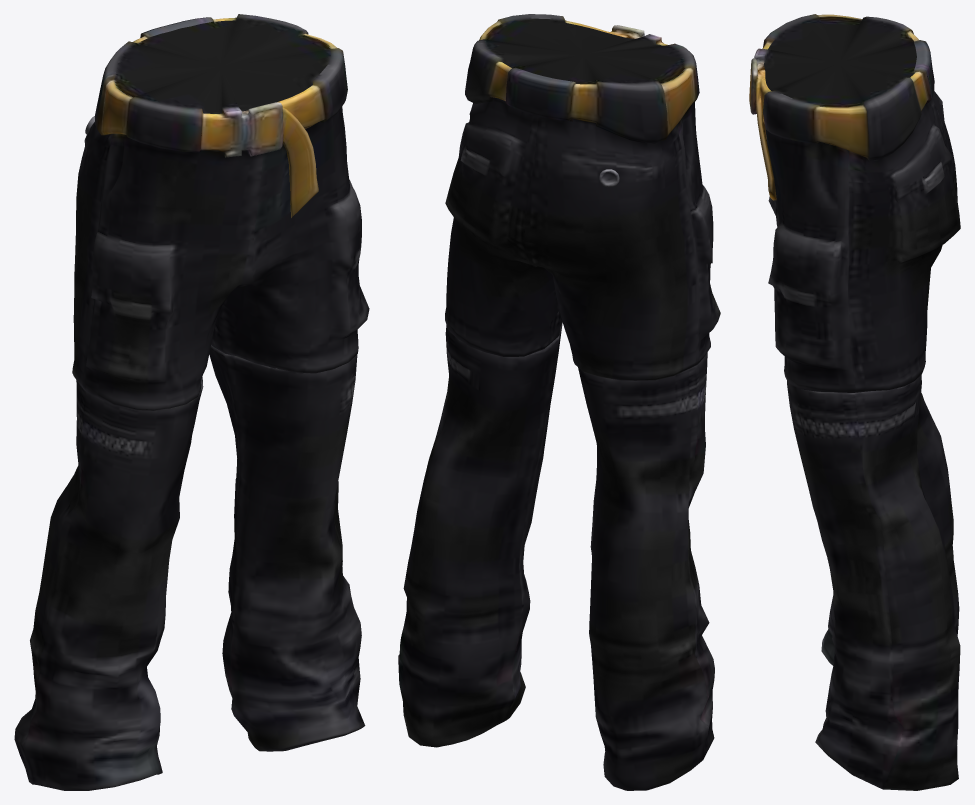
The model's file is leg2.glb.
The picture shows the model from 3 angles, left to right: view 1: azimuth 30°, elevation 25°; view 2: azimuth 150°, elevation 25°; view 3: azimuth 270°, elevation 25°; orthographic projection. The views are drawn at different scales.
Visible parts, largest first — view 1: Wolf3D_Outfit_Bottom; view 2: Wolf3D_Outfit_Bottom; view 3: Wolf3D_Outfit_Bottom.
Part boxes in pixels (box(x1,y1,x2,y2)): Wolf3D_Outfit_Bottom: box(14, 14, 369, 790); Wolf3D_Outfit_Bottom: box(398, 14, 720, 790); Wolf3D_Outfit_Bottom: box(749, 14, 960, 790).
Size of the model in its own units: 0.4752 by 0.9985 by 0.2826.
Materials: 1 (1 with a texture image).
